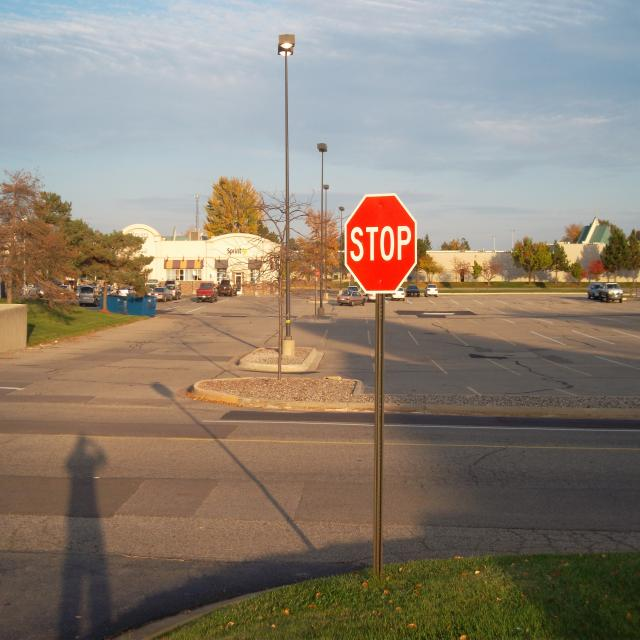stop: (339, 192, 422, 302)
